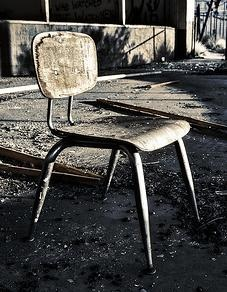obstacle: (29, 31, 193, 271)
